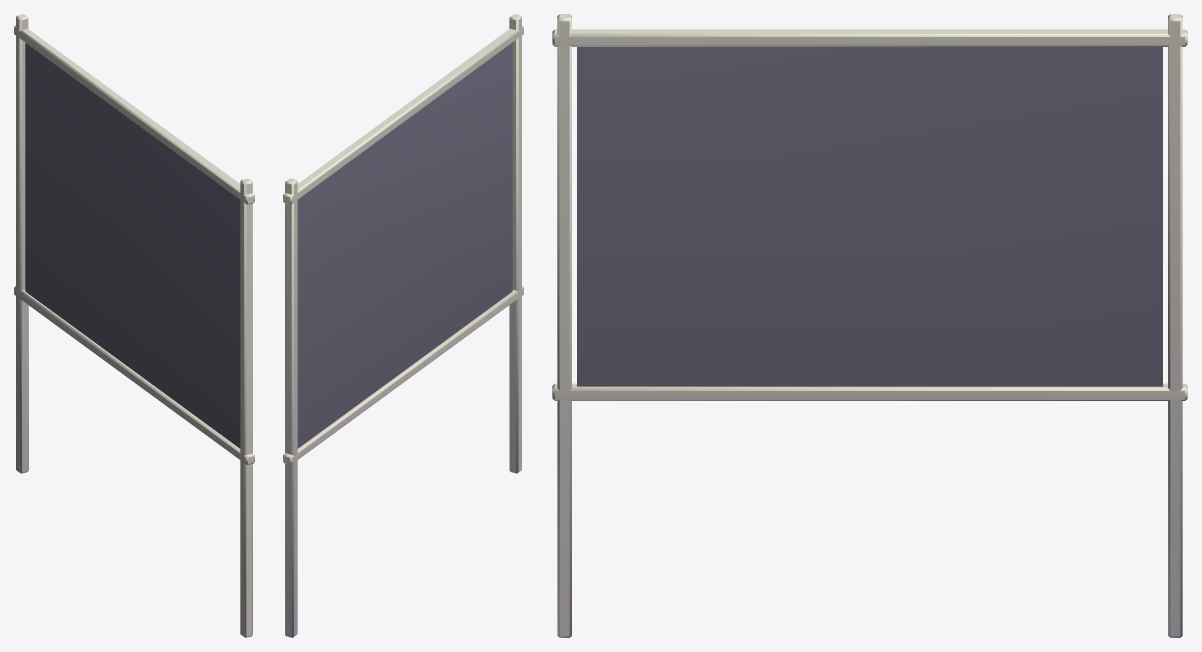
The model's file is lantern-screen.glb.
3 renders of one model, left to right at view 1: azimuth 30°, elevation 25°; view 2: azimuth 150°, elevation 25°; view 3: azimuth 270°, elevation 25°, orthographic. The views are drawn at different scales.
Parts seen in each view (by area): view 1: body; view 2: body; view 3: body.
Part boxes in pixels (x1=…): body: x1=14, y1=14, x2=254, y2=637; body: x1=283, y1=14, x2=523, y2=637; body: x1=552, y1=14, x2=1187, y2=637.
Bounding box in the file's own units: 0.06 × 2.8 × 2.6.
